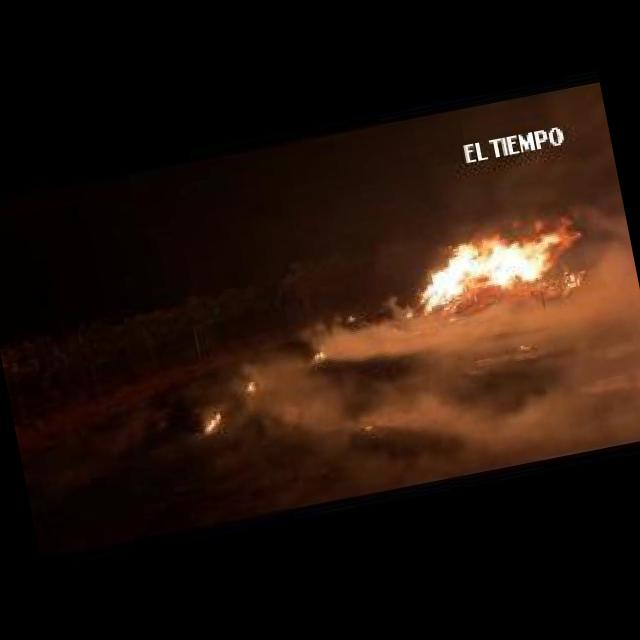Fire: (399, 209, 591, 324), (202, 413, 224, 434), (242, 376, 256, 394), (314, 348, 324, 358), (404, 310, 411, 318), (346, 316, 355, 322)
Smoke: (314, 325, 626, 503), (328, 273, 640, 373), (228, 354, 318, 436)
